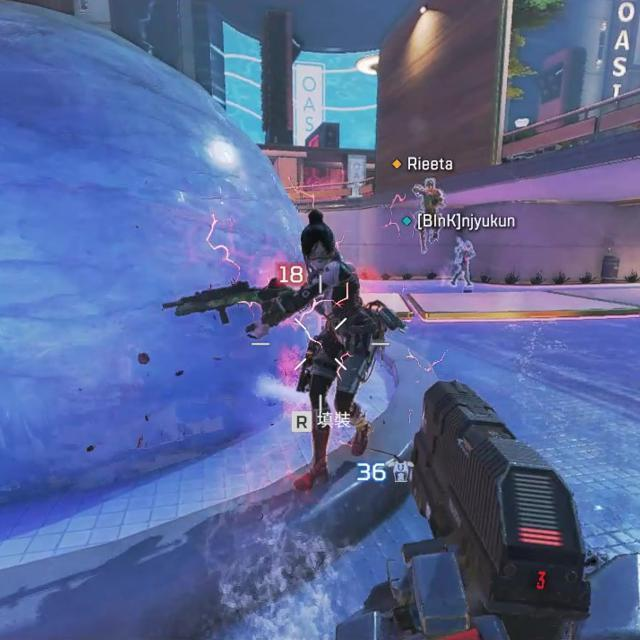avatar: (290, 208, 388, 494), (410, 177, 445, 255), (448, 237, 476, 288)
